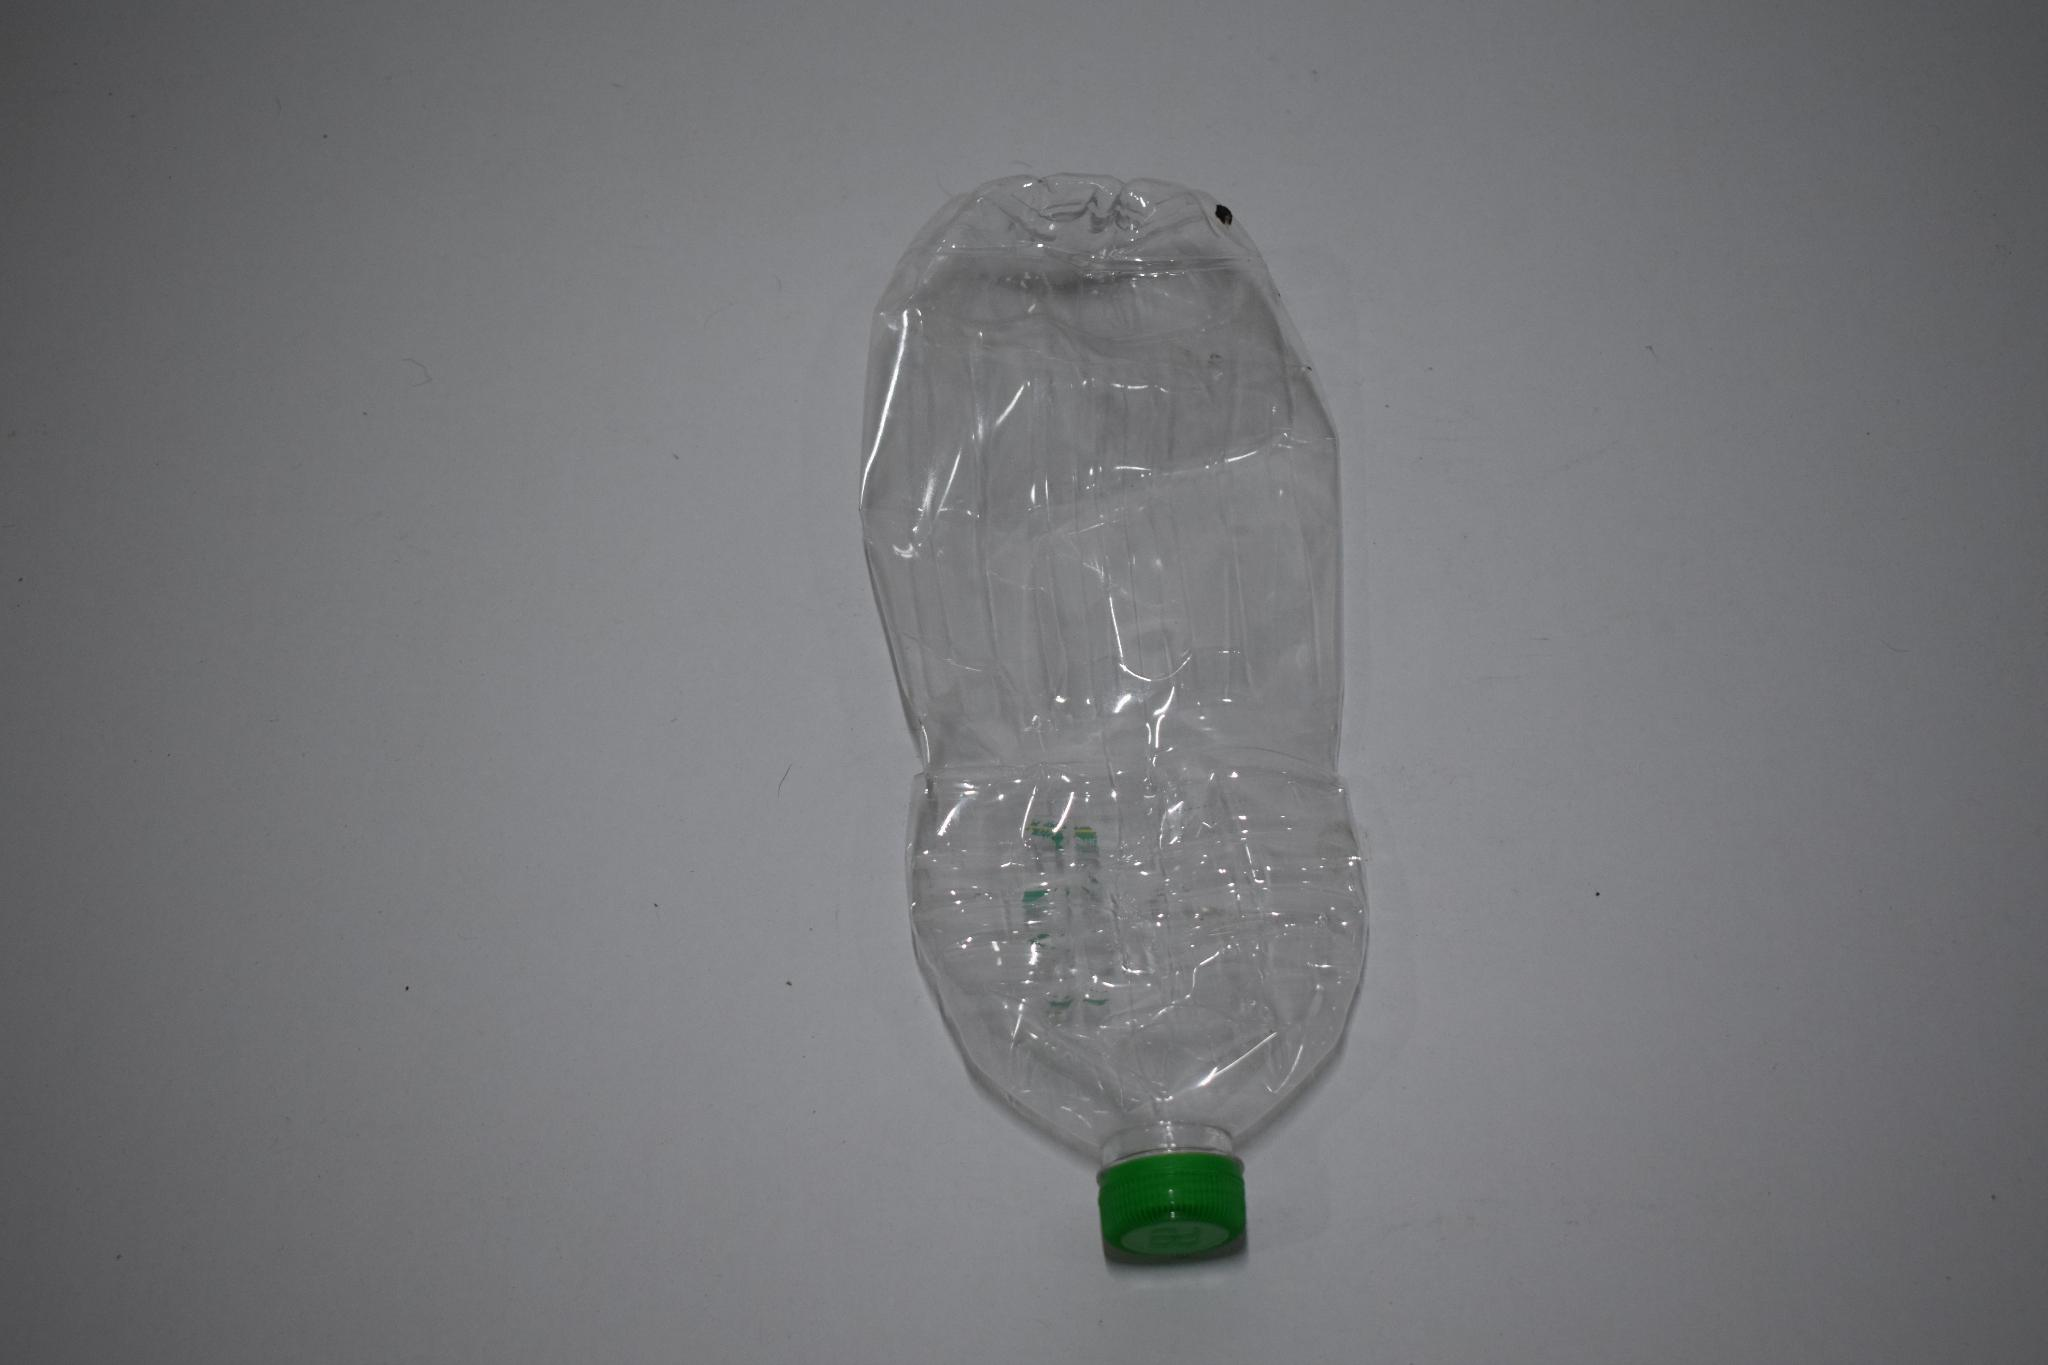bottle: (824, 145, 1419, 1287)
